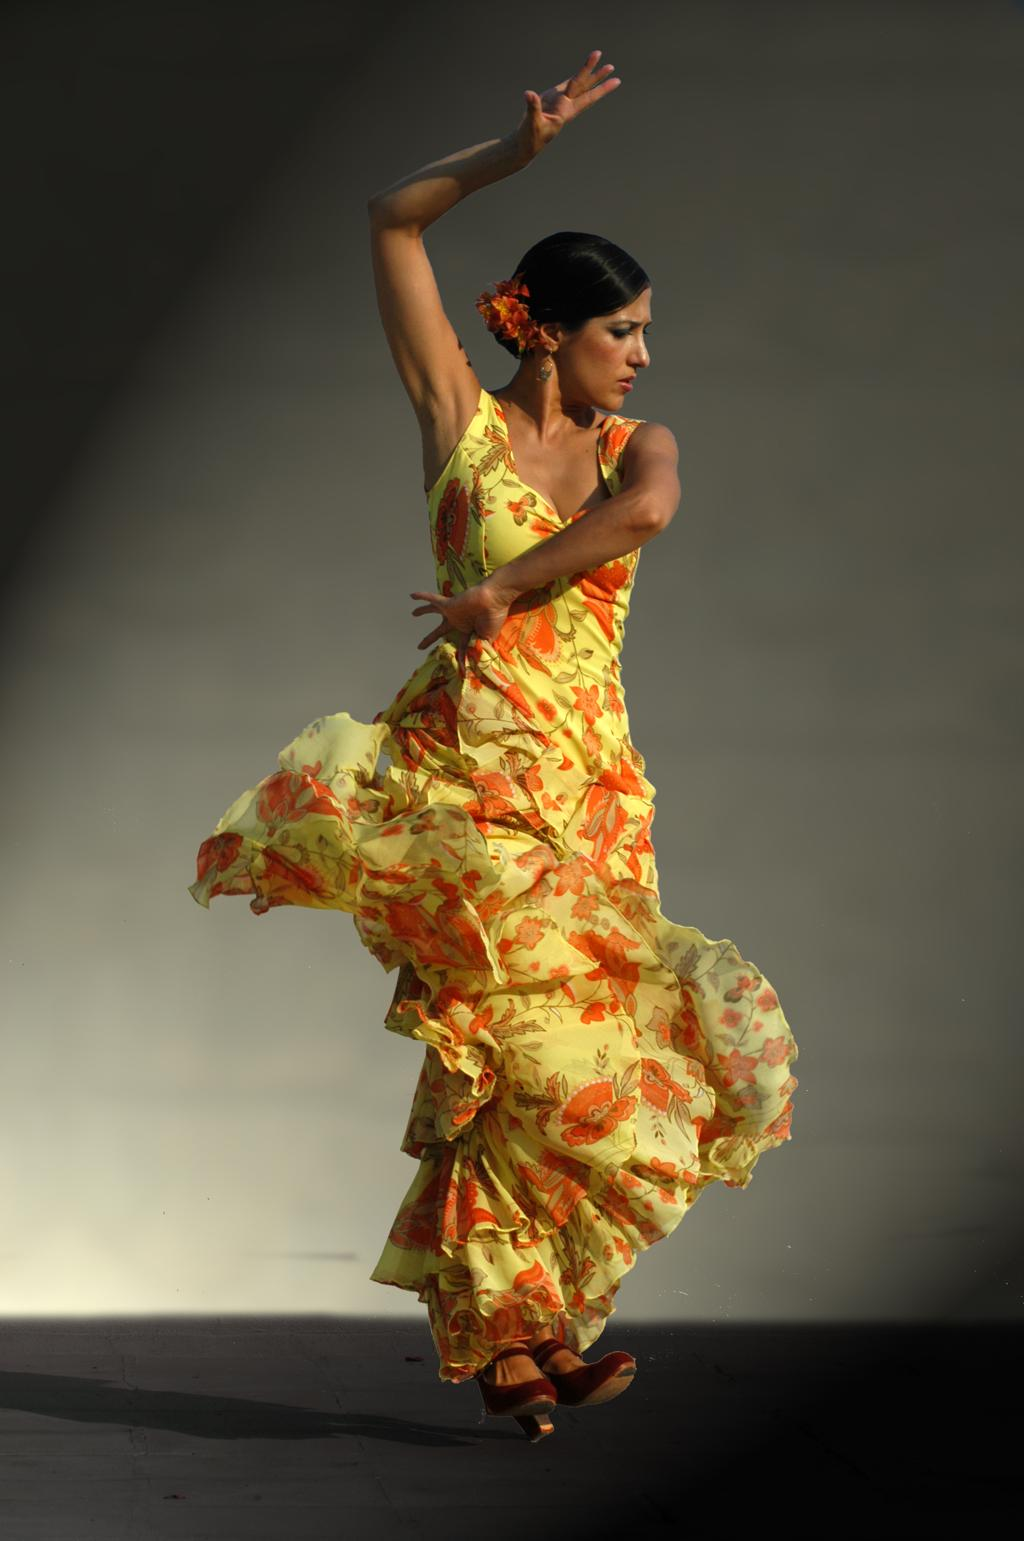face: (572, 277, 653, 400)
